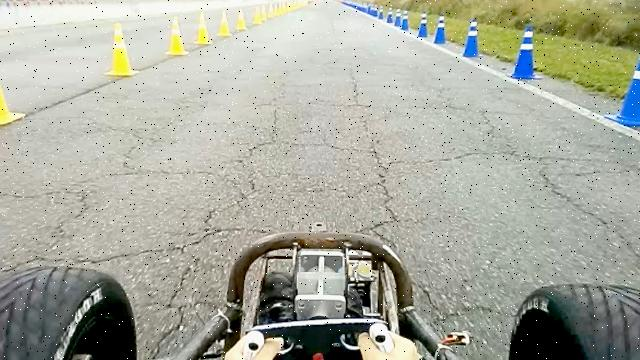blue cone: (604, 41, 640, 127), (510, 23, 543, 80), (462, 18, 484, 58), (433, 15, 447, 44), (416, 12, 428, 38), (400, 9, 410, 30), (393, 8, 402, 27), (386, 6, 394, 23), (378, 5, 384, 20)
yellow cone: (0, 39, 27, 125), (104, 22, 140, 76), (166, 17, 189, 56), (194, 12, 212, 44), (218, 11, 232, 36), (236, 8, 247, 31), (252, 6, 262, 25), (267, 3, 275, 19)
